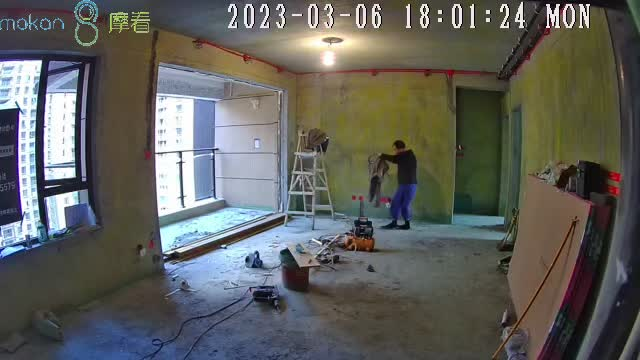people: (379, 141, 418, 230)
window: (1, 55, 94, 241), (155, 93, 220, 206)
